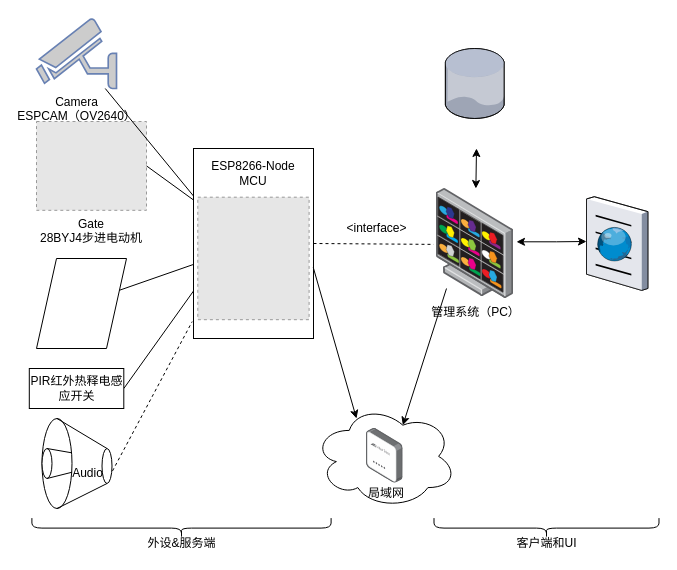
Image size: 677x570. Some labels were removed from this diagram. Grey dashed boxes stand in for pictures. The centre of each missing label's shape, as x and y in pixels:
"Database" belongs at [474,83].
"LCD Display" belongs at [81,303].
"前端界面" belongs at [616,243].
